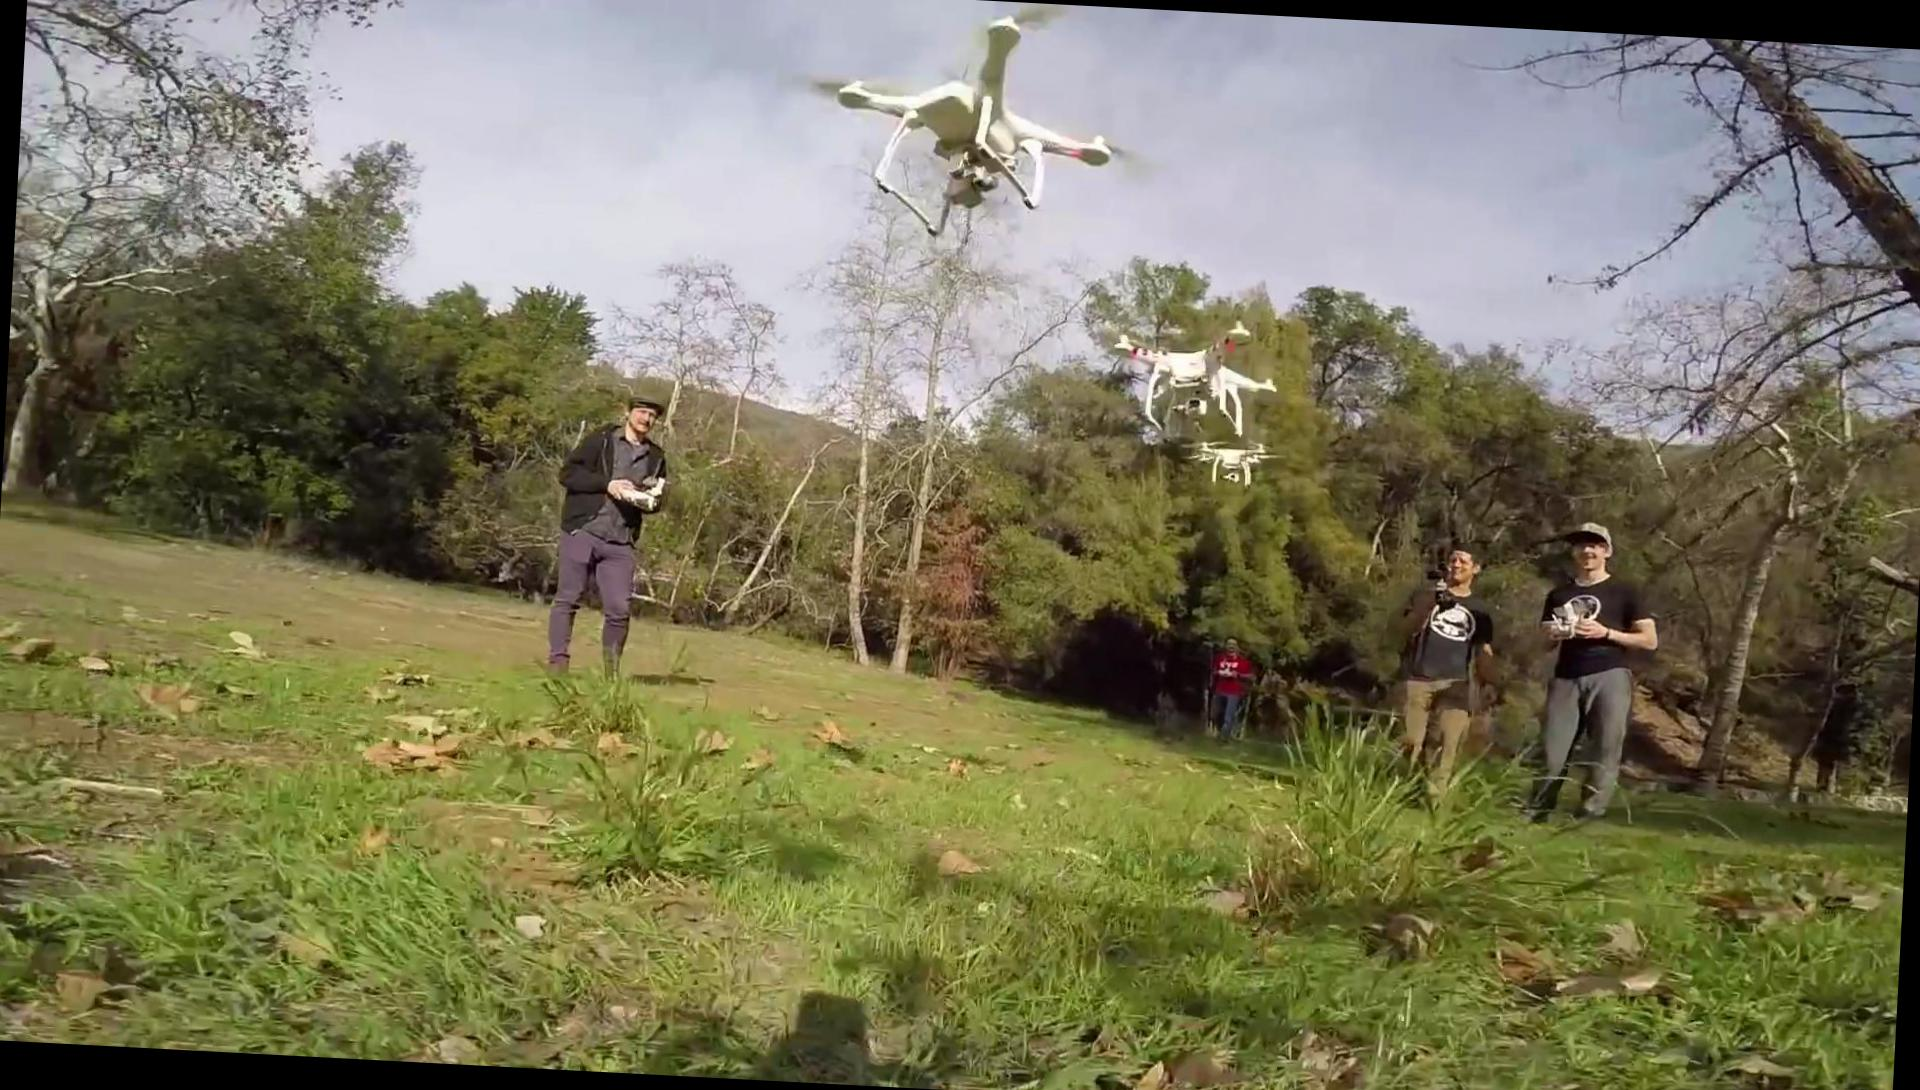drone: (803, 0, 1135, 254), (1091, 311, 1282, 434), (1188, 428, 1271, 490)
